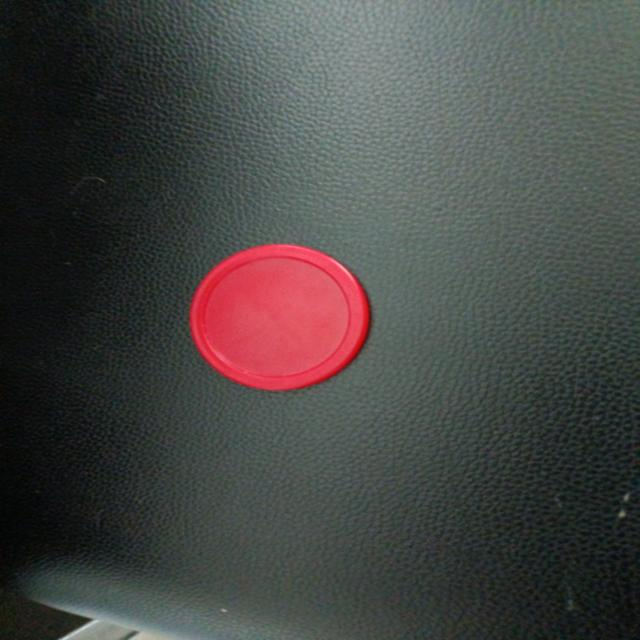chip: (183, 240, 377, 394)
